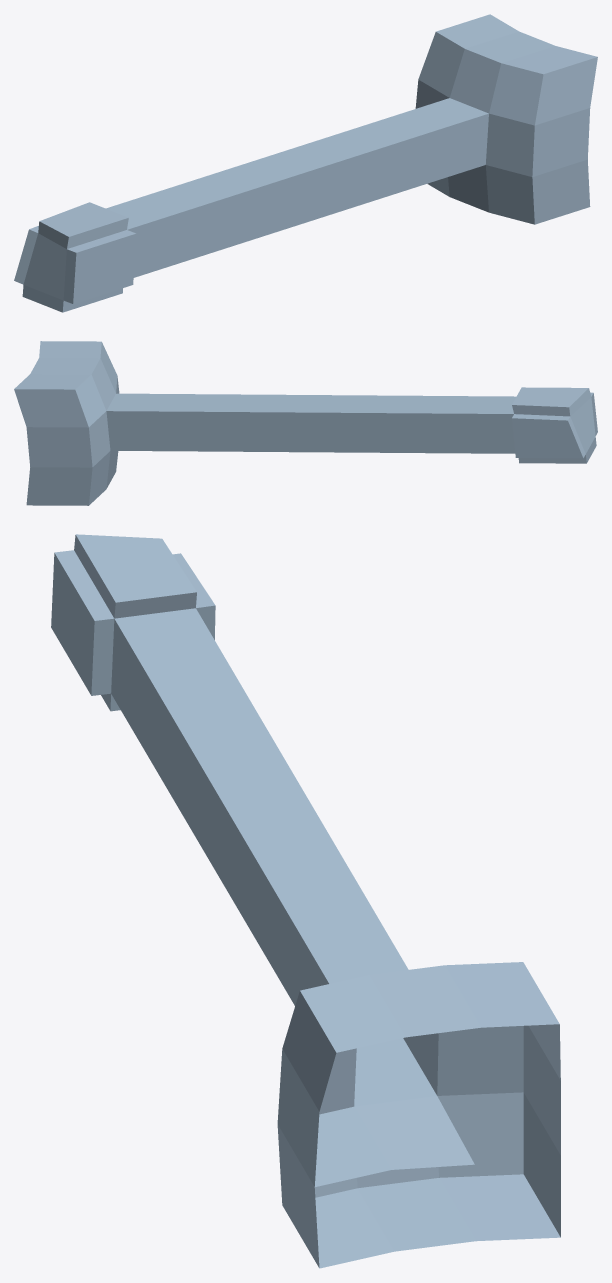
File: Cannon.fbx
3 views of the same model, one above another, from view 1: azimuth 30°, elevation 25°; view 2: azimuth 150°, elevation 25°; view 3: azimuth 270°, elevation 25° (orthographic). The views are drawn at different scales.
Parts seen in each view (by area): view 1: Cannon; view 2: Cannon; view 3: Cannon.
Part boxes in pixels (x1=…): Cannon: x1=14, y1=14, x2=597, y2=312; Cannon: x1=14, y1=341, x2=597, y2=505; Cannon: x1=51, y1=534, x2=560, y2=1268.
Bounding box in the file's own units: 23.58 × 6.12 × 10.36.
